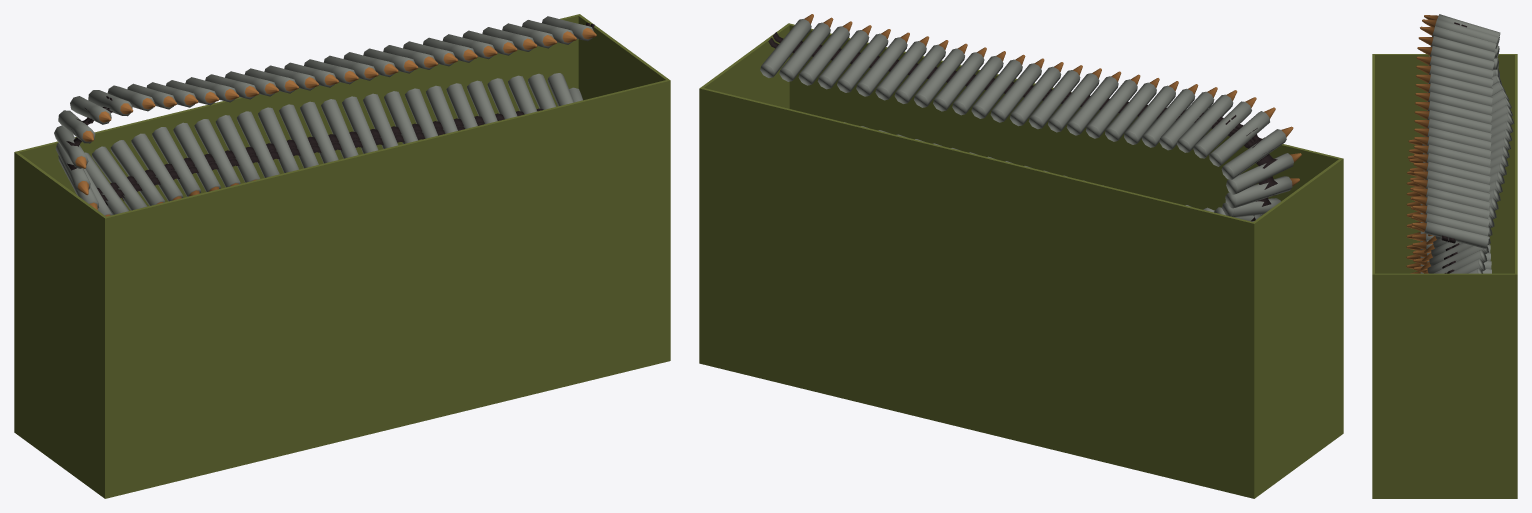
Rendered from attack_speed.glb.
The picture shows the model from 3 angles, left to right: view 1: azimuth 30°, elevation 25°; view 2: azimuth 150°, elevation 25°; view 3: azimuth 270°, elevation 25°; orthographic projection. The views are drawn at different scales.
Visible parts, largest first — view 1: AmmoBox, Round, Link; view 2: AmmoBox, Round, Link; view 3: AmmoBox, Round, Link.
Boxes of the visible parts, x1,y1,x2,y2 form: AmmoBox: (14, 14, 670, 498); Round: (54, 16, 596, 216); Link: (66, 22, 594, 205); AmmoBox: (699, 23, 1343, 498); Round: (760, 14, 1301, 221); Link: (768, 32, 1277, 221); AmmoBox: (1372, 54, 1517, 498); Round: (1406, 14, 1514, 273); Link: (1441, 22, 1466, 273).
Bounding box in the file's own units: 1.39 × 0.8349 × 0.3881.
